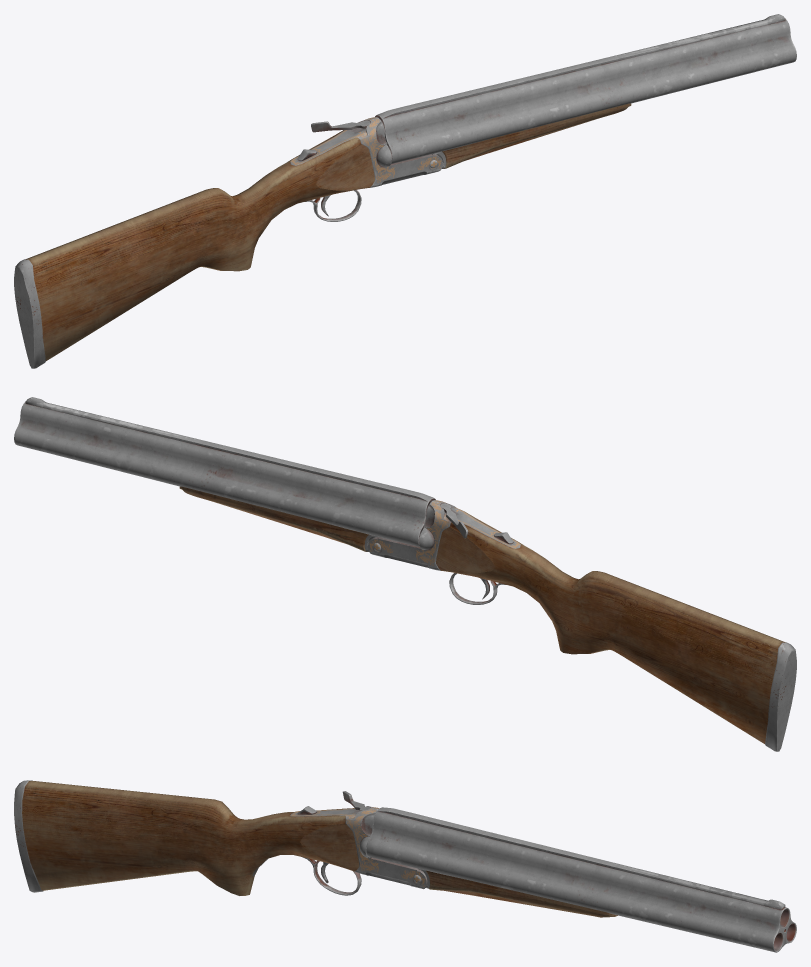
The model's file is trippleshot.fbx.
The picture shows the model from 3 angles, top to bottom: view 1: azimuth 30°, elevation 25°; view 2: azimuth 150°, elevation 25°; view 3: azimuth 330°, elevation 25°; orthographic projection.
Visible parts, largest first — view 1: grip, barrel; view 2: grip, barrel; view 3: grip, barrel.
Boxes of the visible parts, bbox=[...] form: grip: bbox=[14, 117, 442, 368]; barrel: bbox=[375, 14, 796, 168]; grip: bbox=[368, 500, 796, 751]; barrel: bbox=[14, 397, 435, 551]; grip: bbox=[14, 780, 427, 895]; barrel: bbox=[366, 807, 796, 952].
Size of the model in its own units: 156 by 33.6 by 10.56.
Materials: 1 (1 with a texture image).
